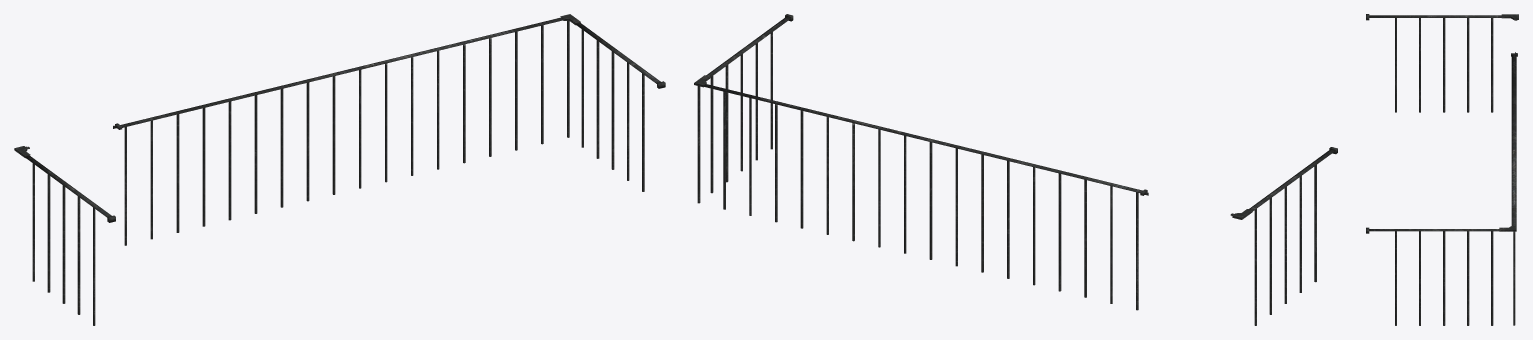
File: fire_escape_railing_bottom.glb
3 renders of one model, left to right at view 1: azimuth 30°, elevation 25°; view 2: azimuth 150°, elevation 25°; view 3: azimuth 270°, elevation 25°, orthographic. The views are drawn at different scales.
Visible parts, largest first — view 1: fire_escape_railing_bottom; view 2: fire_escape_railing_bottom; view 3: fire_escape_railing_bottom.
Boxes of the visible parts, x1,y1,x2,y2 form: fire_escape_railing_bottom: (14,14,665,325); fire_escape_railing_bottom: (694,14,1337,325); fire_escape_railing_bottom: (1366,14,1518,325).
Bounding box in the file's own units: 4.71 × 0.9841 × 1.41.
1 material, 1 textured.
